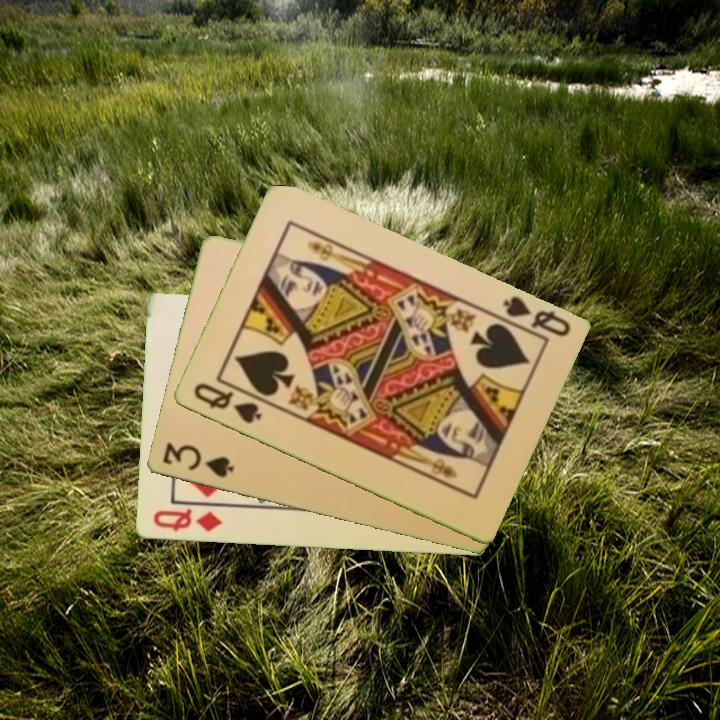3s: (158, 439, 236, 481)
Qd: (149, 505, 225, 535)
Qs: (189, 379, 265, 427), (498, 292, 573, 340)
